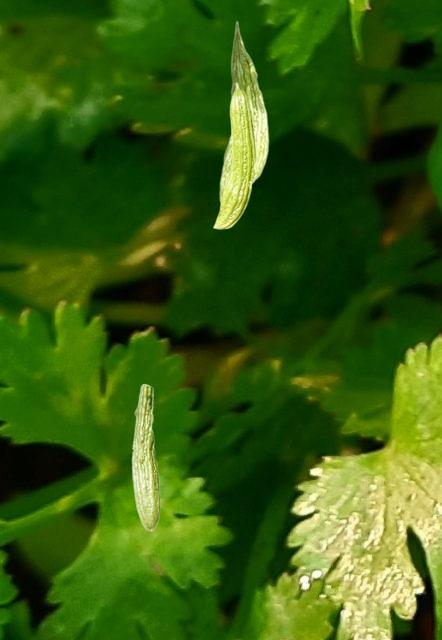ampalaya: (217, 20, 270, 202), (212, 82, 257, 230), (130, 383, 161, 531)
